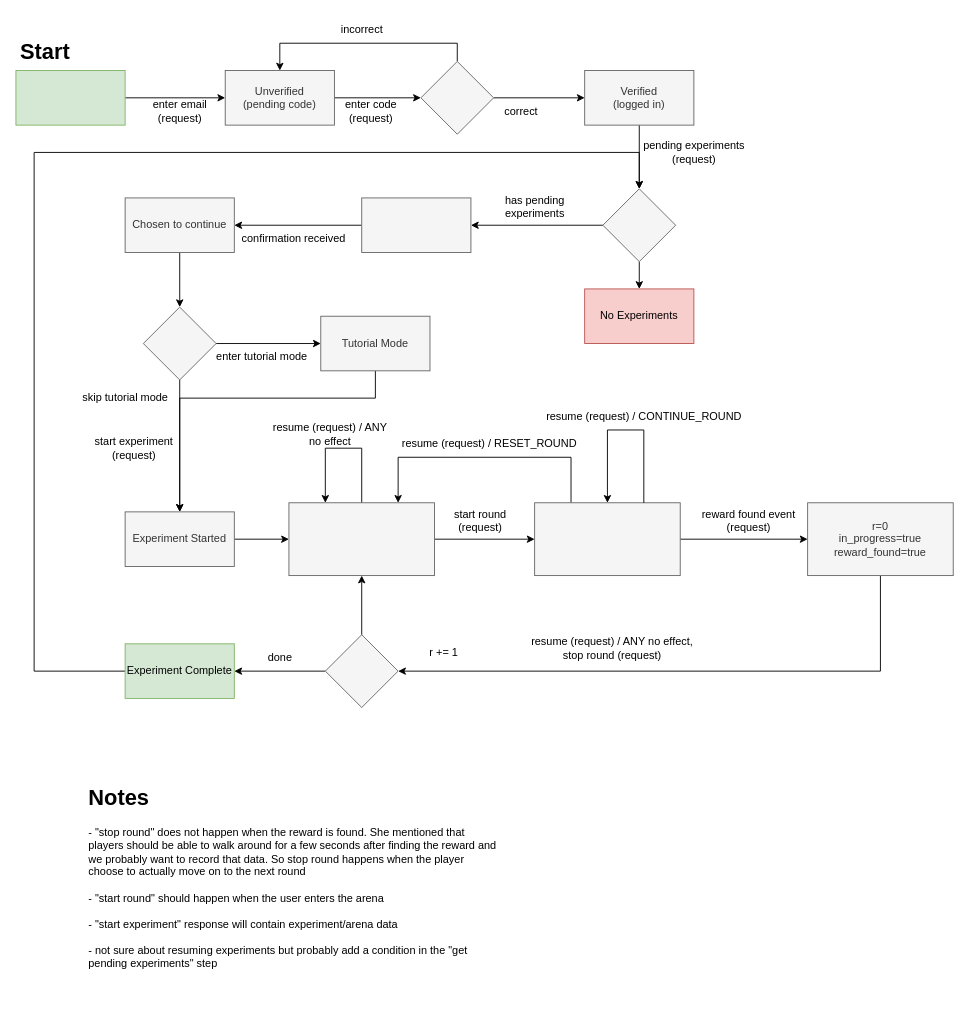
Some shapes in this 969 by 1023 pixel diagram are drawn without their labels. The shapes that lost their labels are listed below. From the top down, each one's centre as x and y in pixels, then its label:
At pixel 70 97: "Unverified".
At pixel 416 225: "Would you like to start? (confirmation msg)".
At pixel 361 539: "r=0 in_progress=false reward_found=false".
At pixel 607 539: "r=0 in_progress=true reward_found=false".
